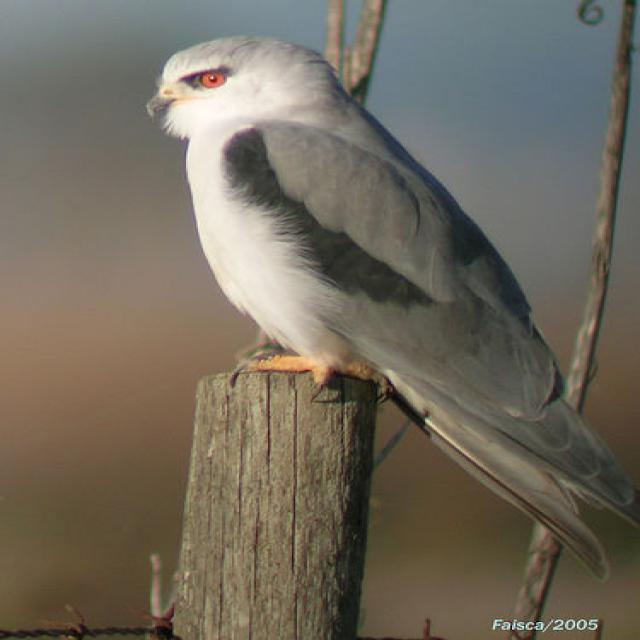bird: (145, 32, 640, 586)
